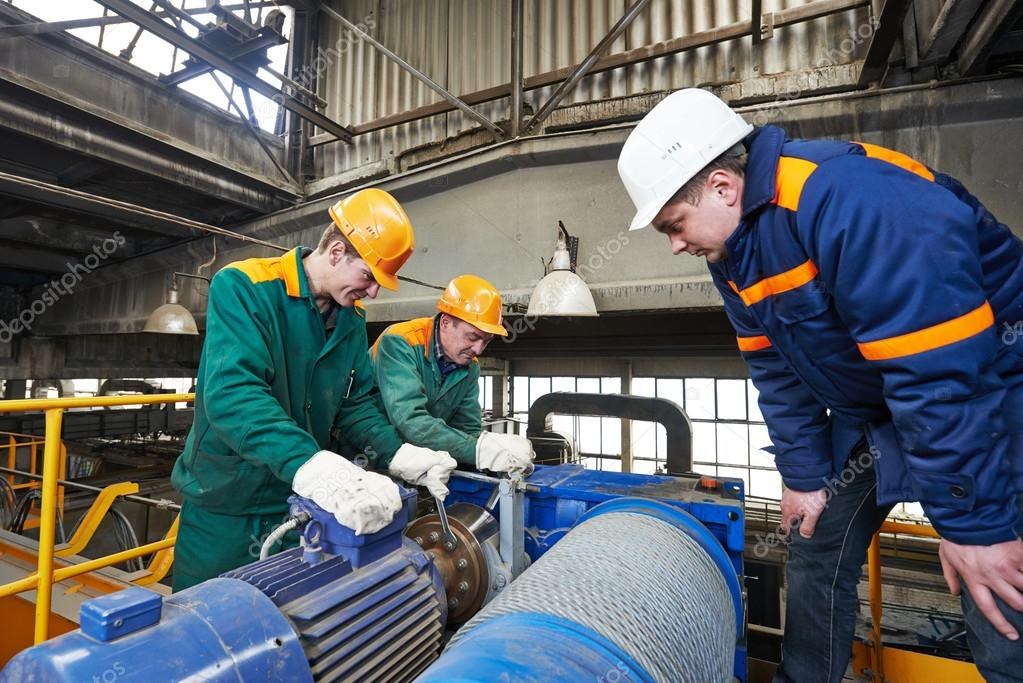person: (616, 86, 1023, 683), (168, 183, 457, 594), (363, 274, 537, 472)
